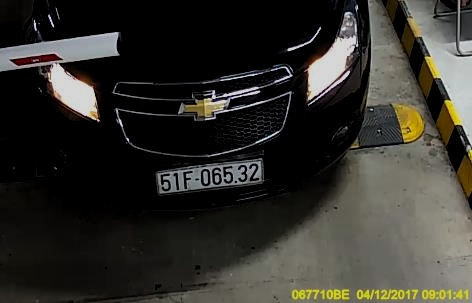plate: (155, 156, 263, 195)
